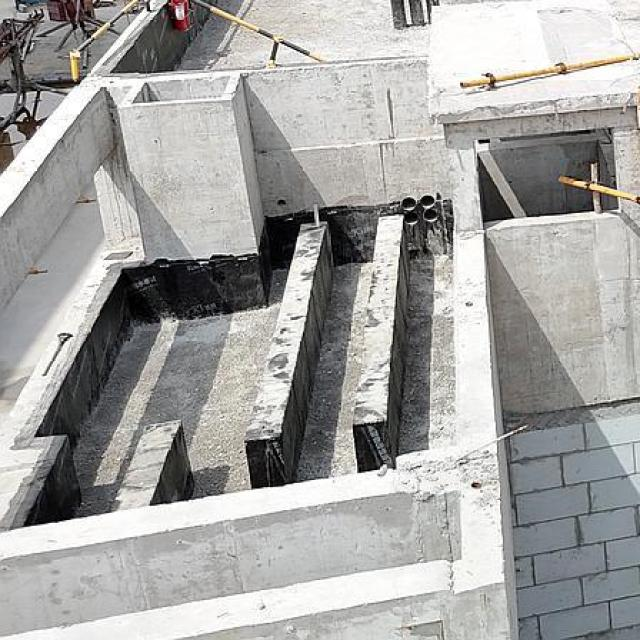edge_guardrail: (191, 0, 326, 67), (68, 0, 152, 83)
